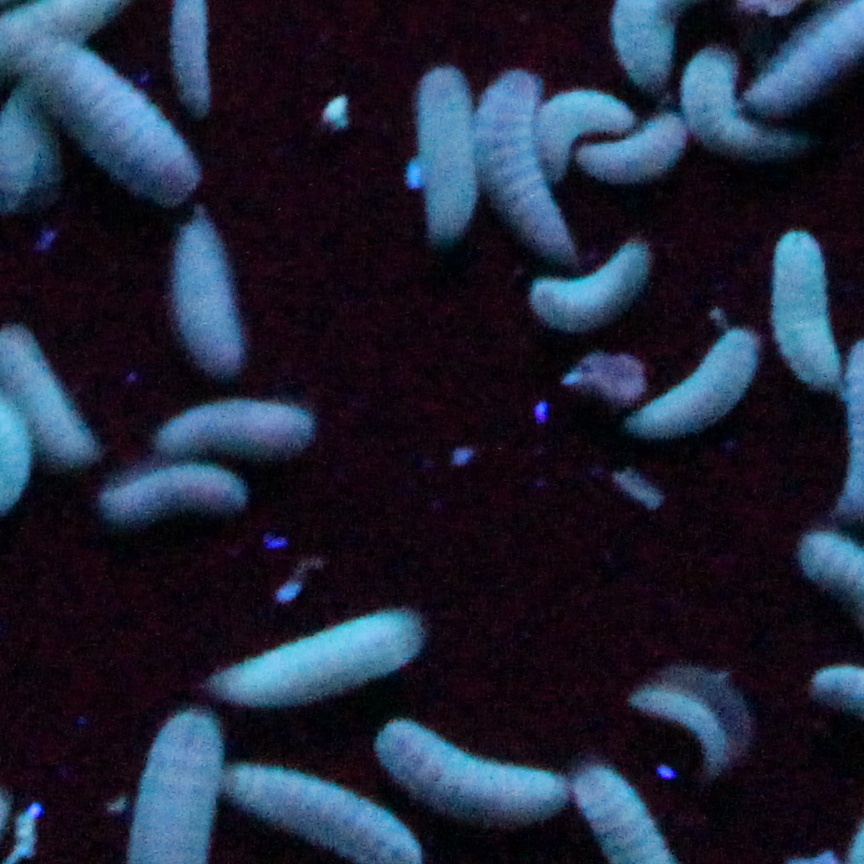larve: (14, 40, 193, 200), (210, 607, 421, 701), (374, 718, 558, 822), (635, 328, 764, 442), (412, 58, 485, 248), (492, 66, 561, 245), (159, 391, 310, 465), (172, 214, 245, 367), (690, 50, 788, 161), (778, 234, 847, 389), (632, 664, 735, 766), (534, 244, 645, 314), (537, 82, 626, 166), (577, 121, 697, 183), (90, 467, 252, 510)
